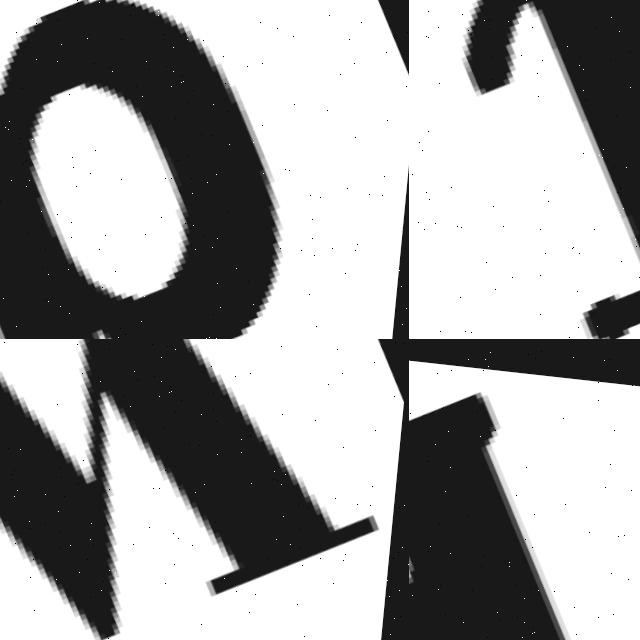K: (409, 346, 640, 640)
Q: (0, 0, 377, 339)
T: (409, 0, 640, 339)
W: (0, 339, 409, 640)
